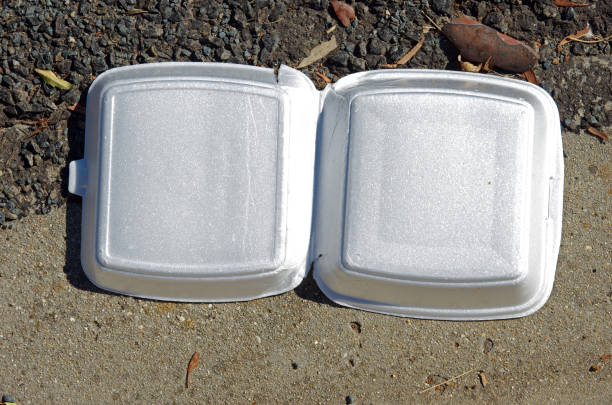styrofoam: (67, 59, 567, 322)
